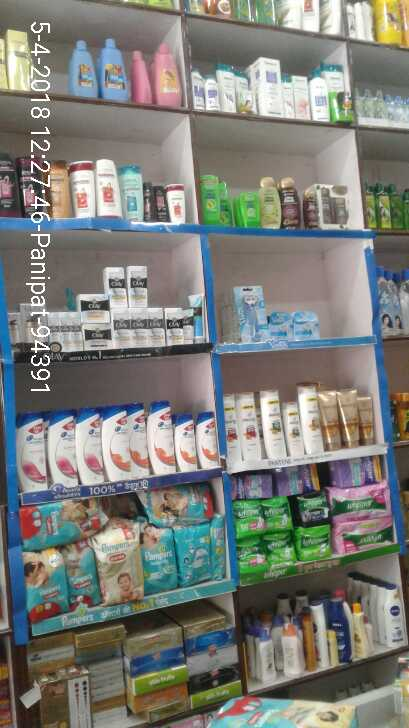venus: (237, 284, 266, 342), (294, 312, 320, 340), (269, 312, 293, 341)
